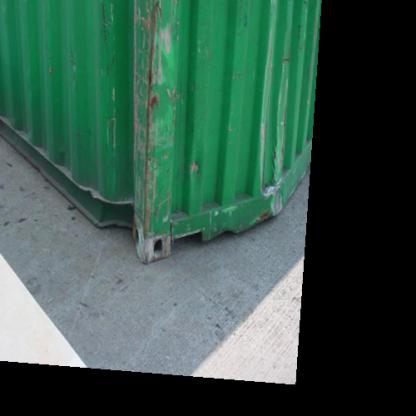Damage: (123, 9, 185, 249), (251, 109, 290, 223), (37, 50, 87, 88), (191, 150, 208, 183)
